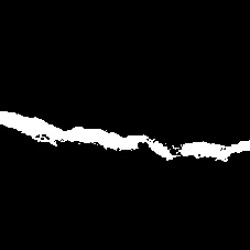crack: (1, 110, 249, 163)
